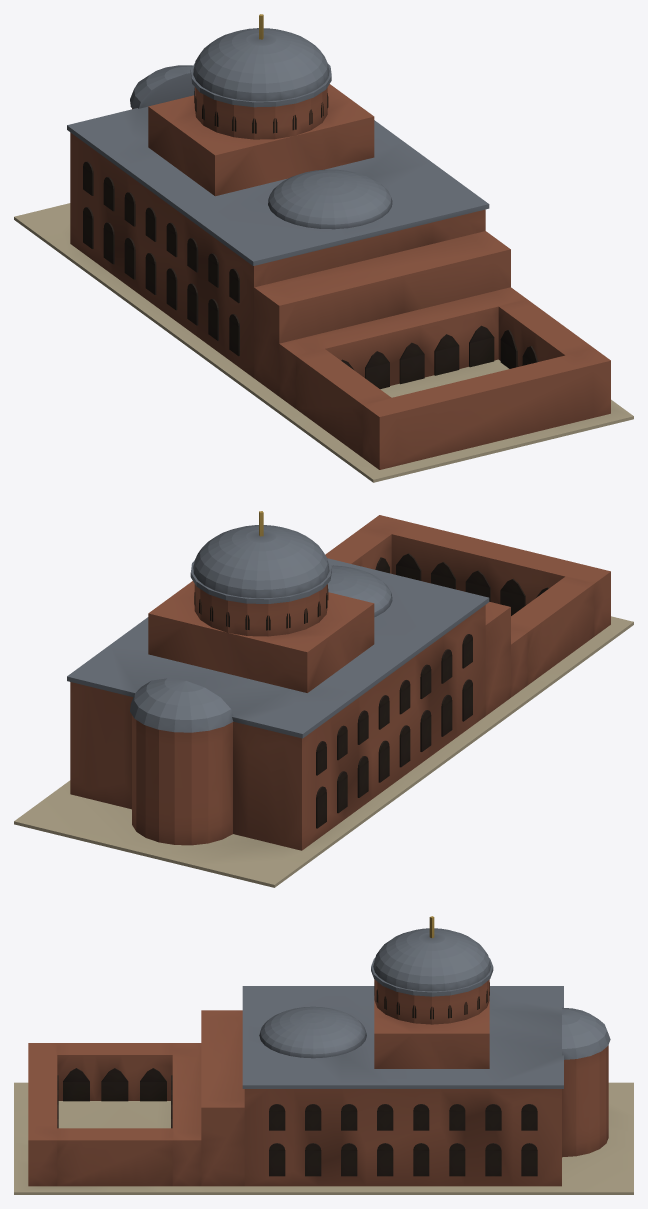
The model's file is hagia-irene.glb.
3 views of the same model, one above another, from view 1: azimuth 30°, elevation 25°; view 2: azimuth 150°, elevation 25°; view 3: azimuth 270°, elevation 25° (orthographic). The views are drawn at different scales.
Visible parts, largest first — view 1: p0_body, p1_domes; view 2: p0_body, p1_domes; view 3: p0_body, p1_domes.
Boxes of the visible parts, x1,y1,x2,y2 form: p0_body: (14, 106, 633, 482); p1_domes: (130, 14, 392, 229); p0_body: (14, 515, 633, 887); p1_domes: (130, 511, 392, 845); p0_body: (14, 986, 633, 1194); p1_domes: (259, 916, 610, 1157).
Bounding box in the file's own units: 36 × 34.13 × 86.
